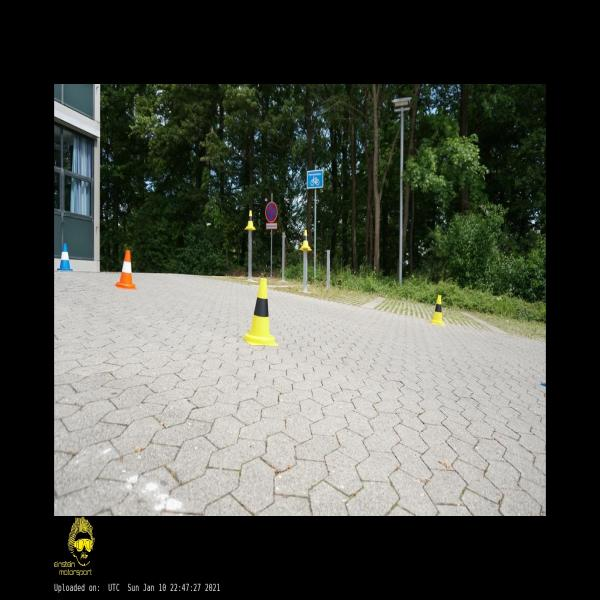blue_cone: (56, 243, 72, 270)
orange_cone: (115, 250, 135, 289)
yellow_cone: (242, 278, 278, 346), (430, 295, 444, 325), (299, 230, 311, 251), (244, 210, 256, 230)
